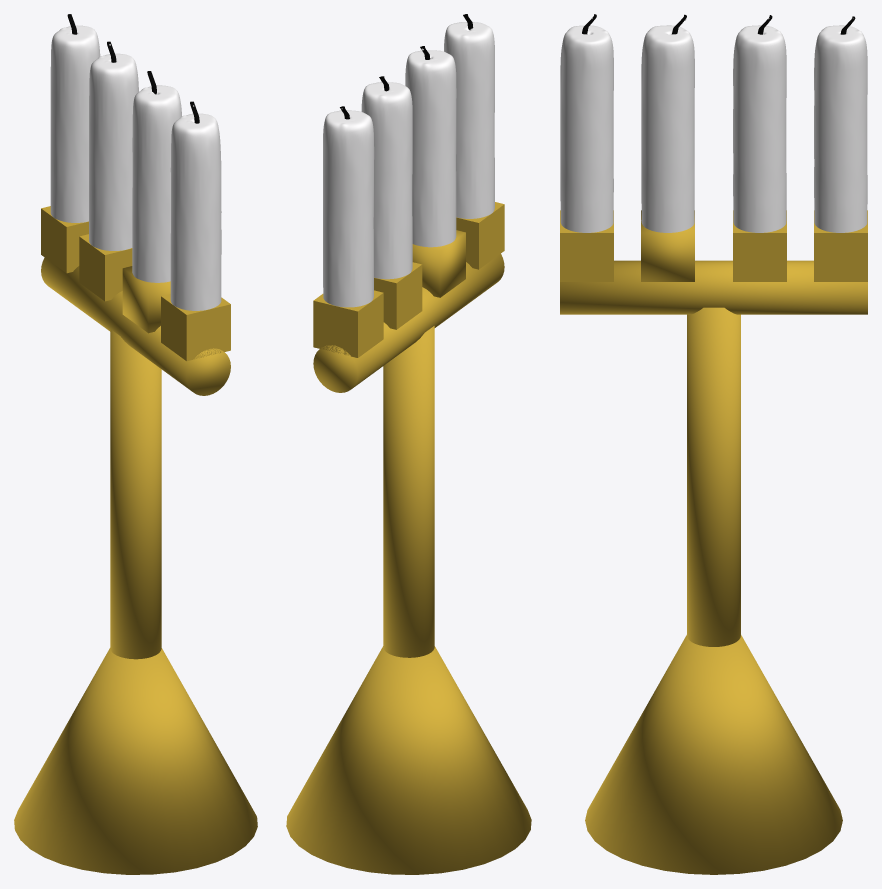
File: big candleholder.glb
The picture shows the model from 3 angles, left to right: view 1: azimuth 30°, elevation 25°; view 2: azimuth 150°, elevation 25°; view 3: azimuth 270°, elevation 25°; orthographic projection. The views are drawn at different scales.
Visible parts, largest first — view 1: bottom cone, base, Candle 1, Candle 3, Candle 2, Candle 4, holder, cube 1, cube 3, cube 2, cube 4; view 2: bottom cone, base, Candle 4, Candle 2, Candle 3, Candle 1, holder, cube 4, cube 2, cube 3, cube 1; view 3: bottom cone, base, holder, Candle 4, Candle 3, Candle 2, Candle 1, cube 4, cube 3, cube 1, cube 2.
Boxes of the visible parts, x1,y1,x2,y2 form: bottom cone: (14, 648, 257, 874); base: (110, 329, 161, 659); Candle 1: (170, 113, 221, 310); Candle 3: (89, 53, 138, 250); Candle 2: (132, 85, 181, 282); Candle 4: (50, 25, 100, 222); holder: (41, 257, 230, 395); cube 1: (161, 294, 230, 361); cube 3: (79, 234, 132, 301); cube 2: (122, 266, 170, 333); cube 4: (41, 206, 88, 273); bottom cone: (286, 646, 531, 874); base: (383, 326, 434, 657); Candle 4: (323, 110, 374, 307); Candle 2: (405, 50, 456, 247); Candle 3: (361, 82, 412, 279); Candle 1: (444, 22, 494, 218); holder: (313, 254, 504, 392); cube 4: (313, 290, 383, 357); cube 2: (412, 230, 465, 297); cube 3: (374, 262, 422, 329); cube 1: (456, 202, 504, 269); bottom cone: (585, 635, 842, 874); base: (687, 307, 740, 646); holder: (560, 260, 867, 314); Candle 4: (814, 25, 867, 232); Candle 3: (733, 25, 786, 232); Candle 2: (641, 25, 694, 232); Candle 1: (560, 25, 613, 232); cube 4: (814, 210, 867, 281); cube 3: (733, 210, 786, 281); cube 1: (560, 210, 613, 281); cube 2: (641, 210, 694, 281).
Bounding box in the file's own units: 9.55 × 32.93 × 11.4.
